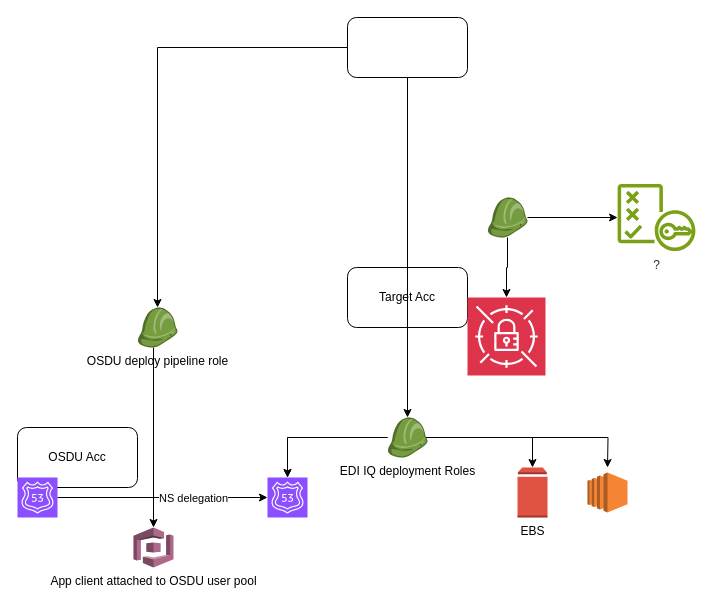
Image size: 713x606. Some labels were removed from this diagram. The centre of each missing label's shape, as x and y in pixels:
"EC2" belongs at [607,492].
"PETRA_IQ_DEPLOY_ROLE" belongs at [507,217].
"Provider Acc" belongs at [407,47].
